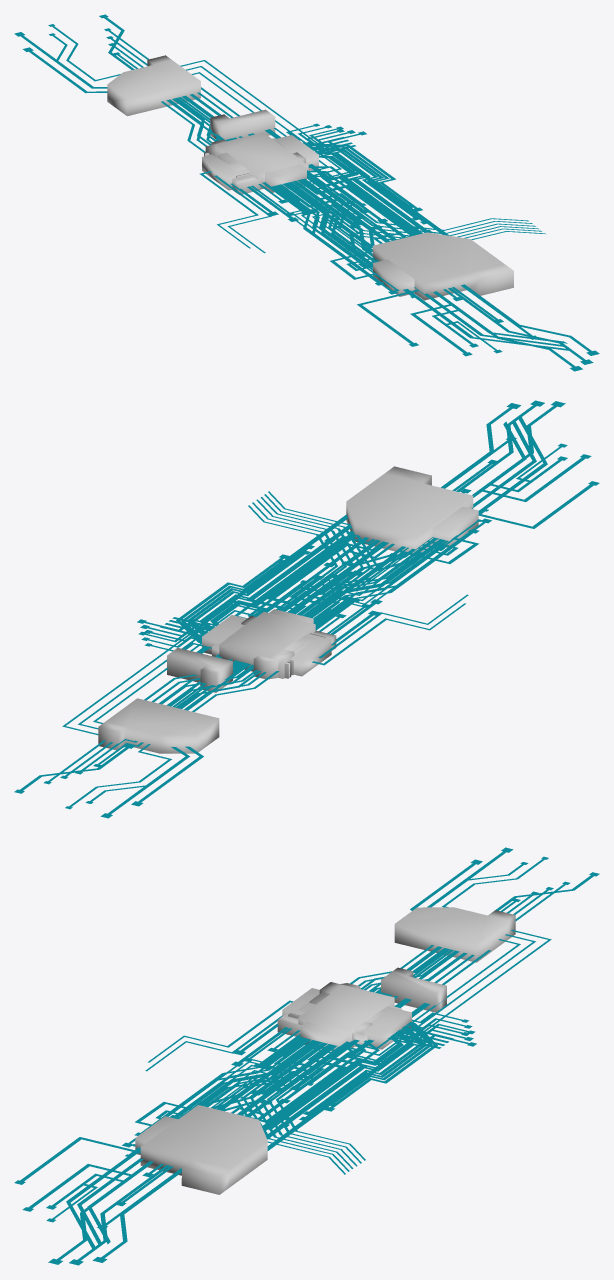
The model's file is Circuit_IC_mesh.fbx.
3 views of the same model, one above another, from view 1: azimuth 30°, elevation 25°; view 2: azimuth 150°, elevation 25°; view 3: azimuth 330°, elevation 25° (orthographic). The views are drawn at different scales.
Visible parts, largest first — view 1: Circuit_IC_J, Circuit_IC_I, Circuit_IC_G, Circuit_IC_E, Circuit_IC_F, Circuit_IC_D, Circuit_IC_C, Circuit_IC_A, Circuit_IC_B, Circuit_IC_H; view 2: Circuit_IC_J, Circuit_IC_I, Circuit_IC_G, Circuit_IC_E, Circuit_IC_F, Circuit_IC_D, Circuit_IC_C, Circuit_IC_A, Circuit_IC_B, Circuit_IC_H; view 3: Circuit_IC_J, Circuit_IC_I, Circuit_IC_G, Circuit_IC_E, Circuit_IC_F, Circuit_IC_D, Circuit_IC_C, Circuit_IC_A, Circuit_IC_B, Circuit_IC_H.
Part boxes in pixels (box(x1,y1,x2,y2)): Circuit_IC_J: box(14, 14, 599, 371); Circuit_IC_I: box(202, 109, 449, 296); Circuit_IC_G: box(104, 28, 303, 253); Circuit_IC_E: box(282, 142, 573, 351); Circuit_IC_F: box(211, 123, 538, 339); Circuit_IC_D: box(284, 137, 545, 240); Circuit_IC_C: box(232, 138, 419, 248); Circuit_IC_A: box(174, 87, 377, 267); Circuit_IC_B: box(204, 152, 398, 294); Circuit_IC_H: box(291, 189, 414, 298); Circuit_IC_J: box(14, 400, 599, 818); Circuit_IC_I: box(137, 506, 478, 692); Circuit_IC_G: box(44, 594, 468, 784); Circuit_IC_E: box(176, 415, 547, 643); Circuit_IC_F: box(138, 436, 516, 679); Circuit_IC_D: box(160, 491, 379, 637); Circuit_IC_C: box(181, 537, 399, 656); Circuit_IC_A: box(144, 537, 445, 708); Circuit_IC_B: box(241, 518, 491, 678); Circuit_IC_H: box(288, 509, 488, 606); Circuit_IC_J: box(14, 847, 599, 1265); Circuit_IC_I: box(135, 967, 476, 1154); Circuit_IC_G: box(145, 881, 569, 1071); Circuit_IC_E: box(66, 1022, 437, 1250); Circuit_IC_F: box(97, 983, 475, 1229); Circuit_IC_D: box(234, 1028, 453, 1174); Circuit_IC_C: box(216, 1006, 432, 1127); Circuit_IC_A: box(178, 948, 490, 1119); Circuit_IC_B: box(122, 1013, 372, 1147); Circuit_IC_H: box(125, 1031, 355, 1156).
Bounding box in the file's own units: 15.25 × 1.08 × 53.99.
